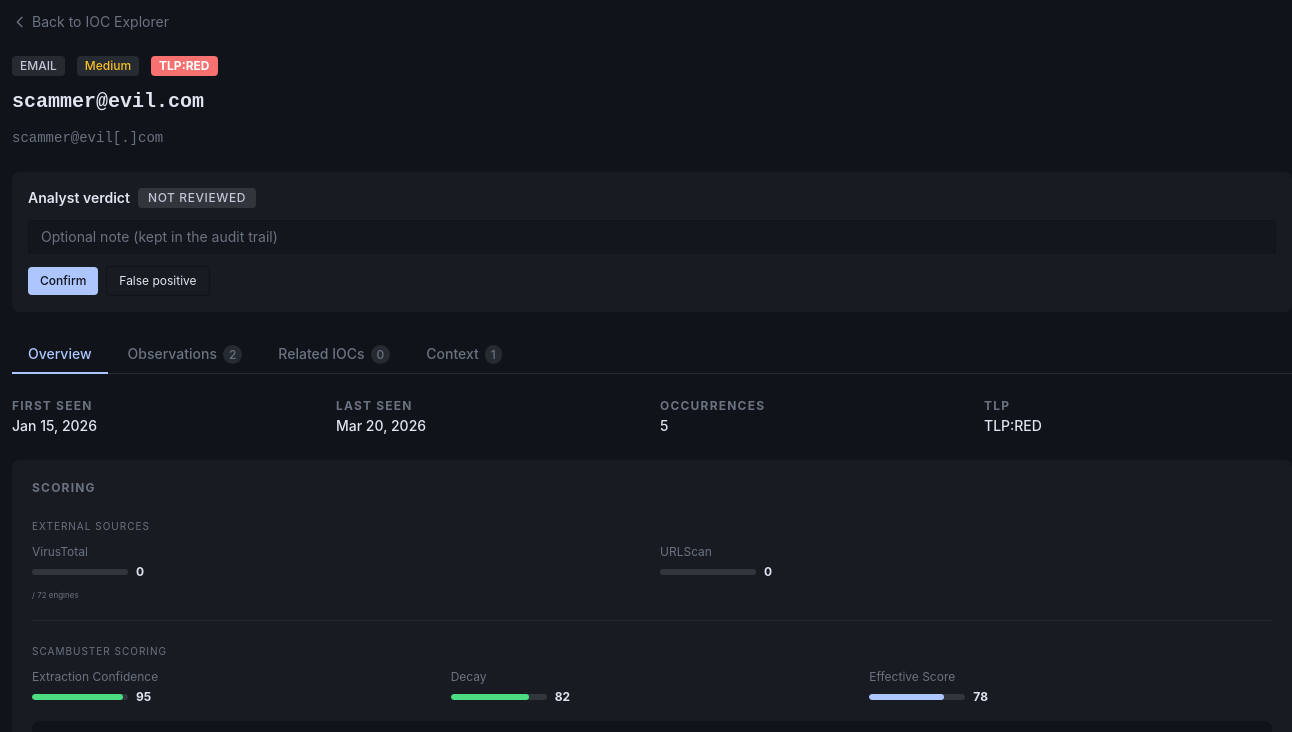
Test: IocDetail — coverage gaps › renders context tab with skipped status
The width and height of the screenshot is (1292, 732).
Expected: the heading "scammer@evil.com" is shown, [12,90,204,113]
Click the button "Context1": (464, 355) [410,336,518,374]
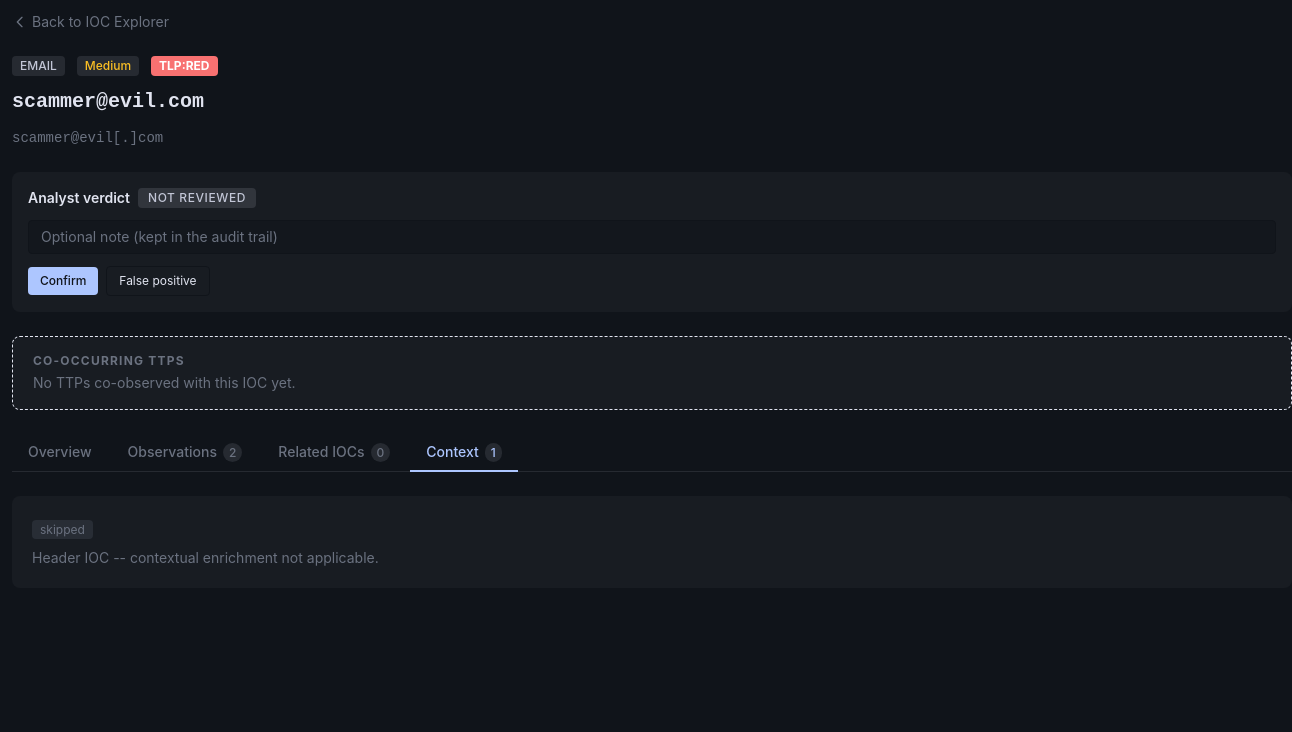
Expected: the text "skipped" is shown, [32,520,93,539]
